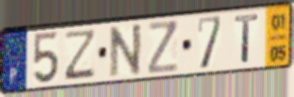5: (32, 30, 60, 84)
7: (197, 14, 223, 71)
N: (107, 22, 144, 80)
T: (233, 12, 261, 66)
Z: (62, 27, 98, 82), (147, 18, 180, 76)
